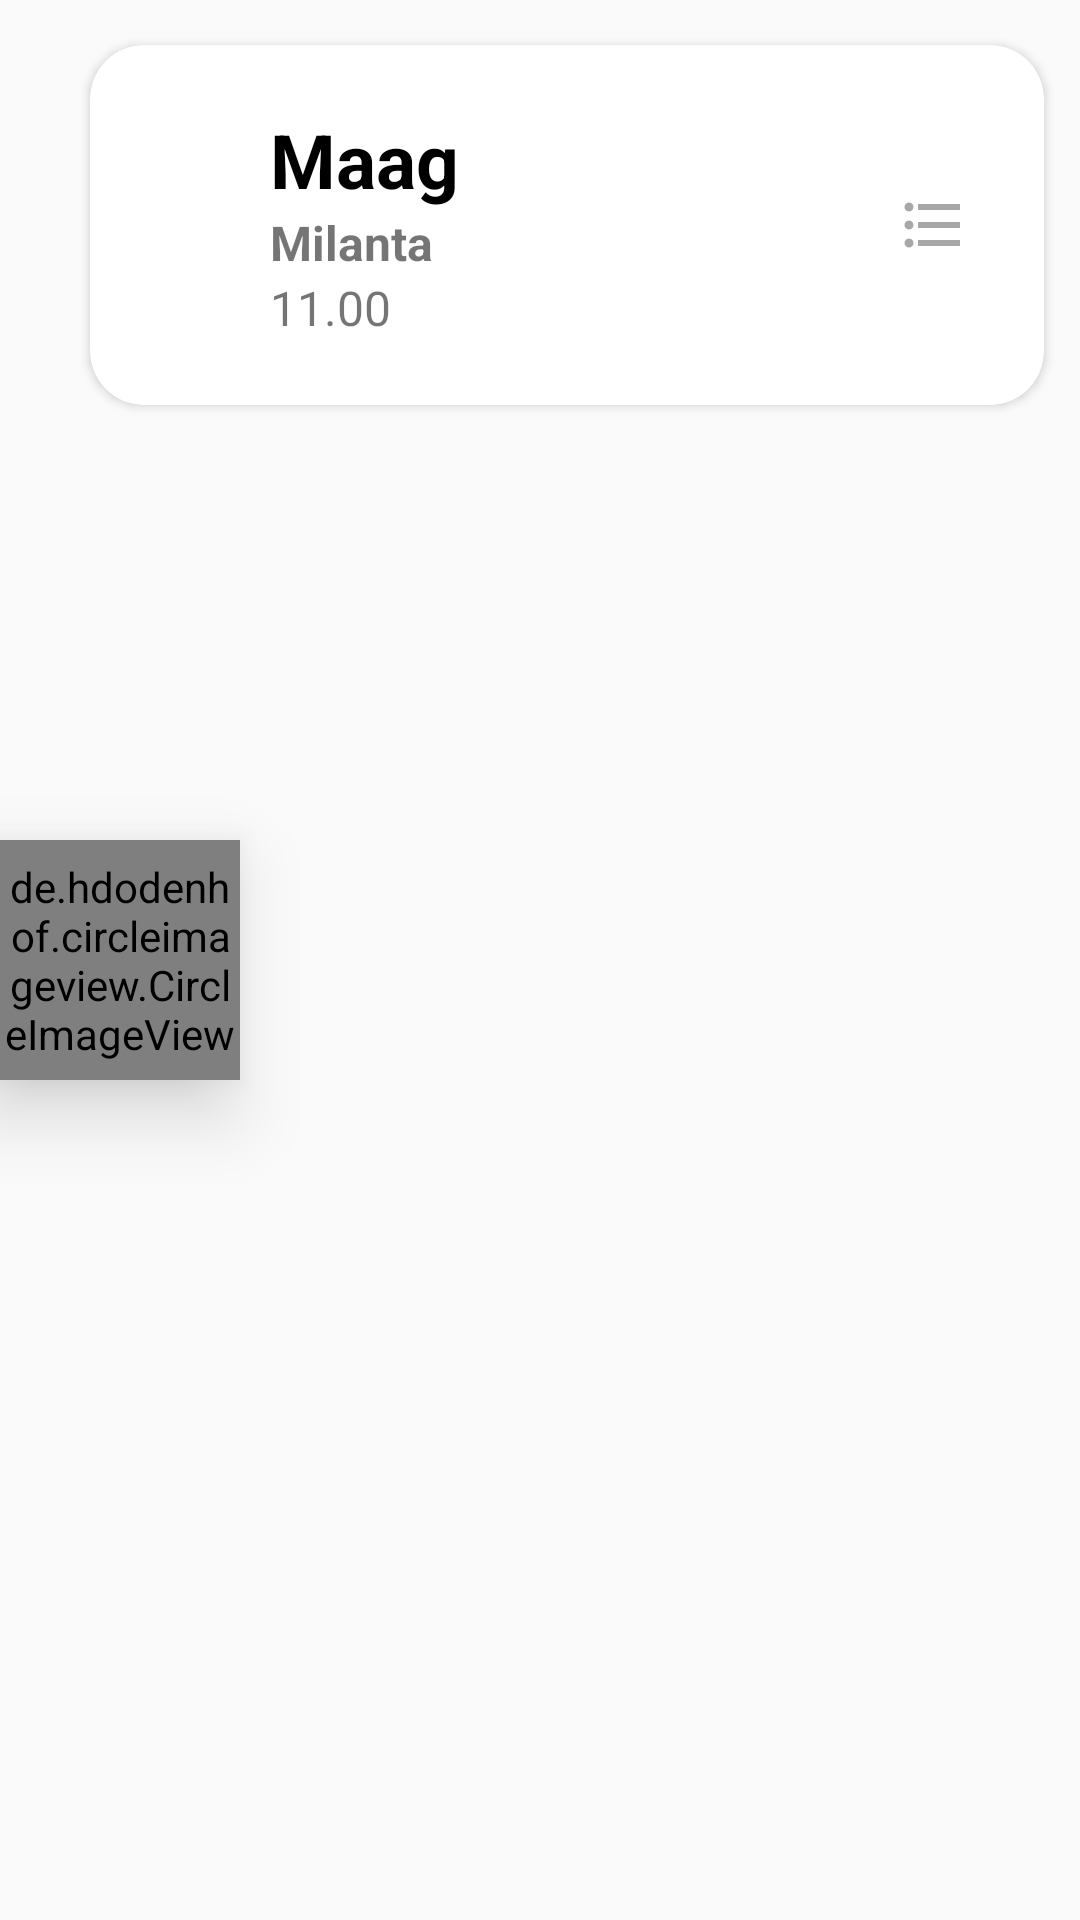

Icons on this 1080px x 1920px Android screen, each with the point to tap as [x,y]:
list: [932,225]
